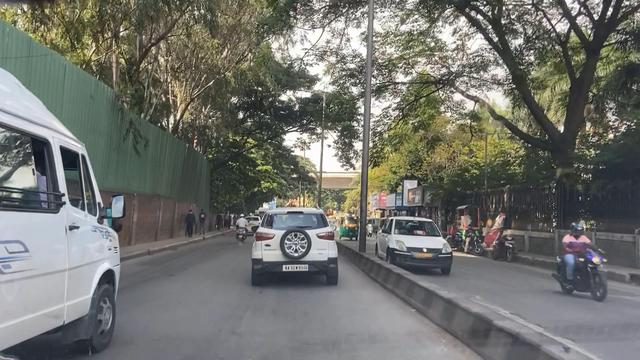HMV: (3, 72, 128, 360)
LMV: (258, 199, 340, 285)
